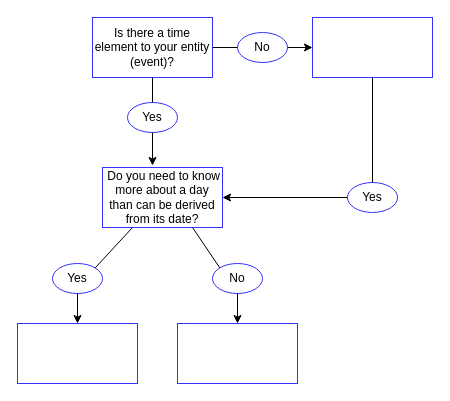
This 450x401 diagram has some shape labels left out. Each missing label, with the centre of its shape:
Date as attribute: the point at 237,353
Date as entity: the point at 77,353
Do you have changing attributes?: the point at 372,47
